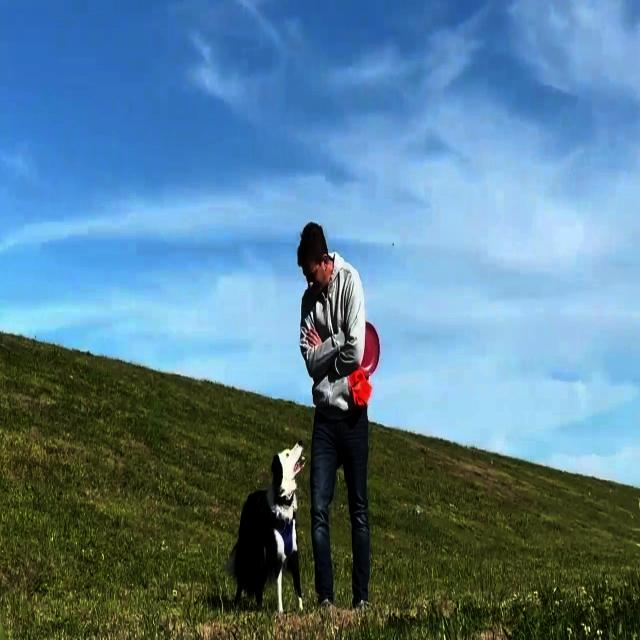Unleashed_Dog: (225, 439, 332, 615)
